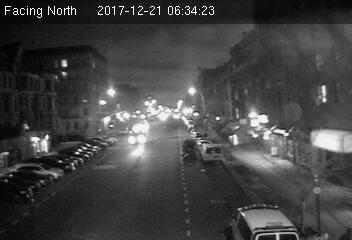car: (126, 131, 147, 144)
police: (228, 200, 302, 240)
truck: (199, 142, 222, 163)
